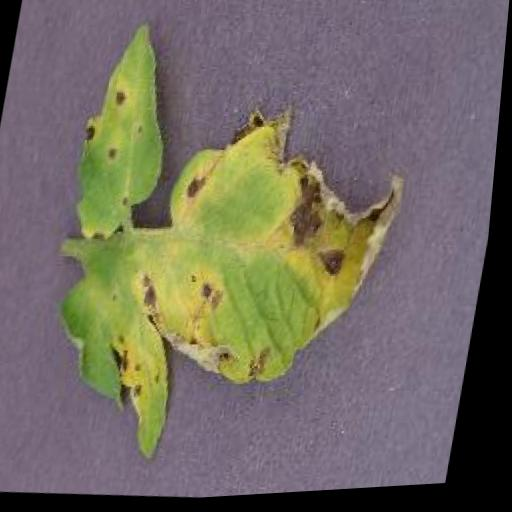Septoria: (32, 4, 435, 488)
